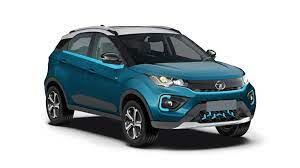Tata Nexon: (43, 23, 256, 147)
